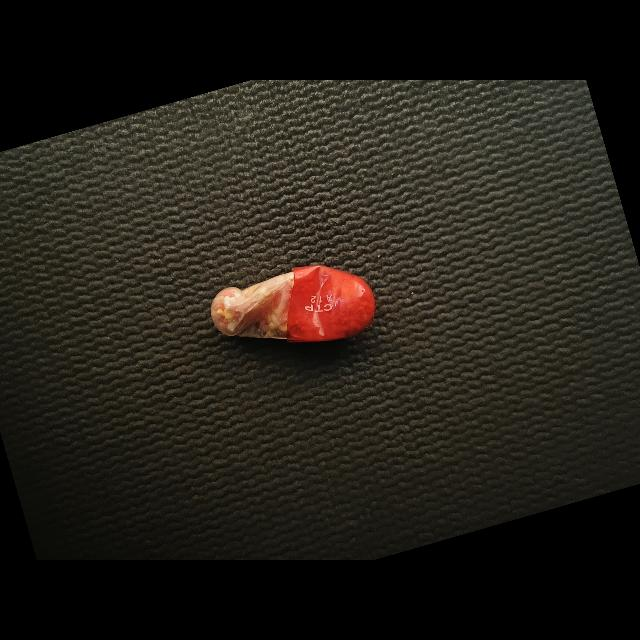Defective Capsule: (211, 265, 375, 343)
